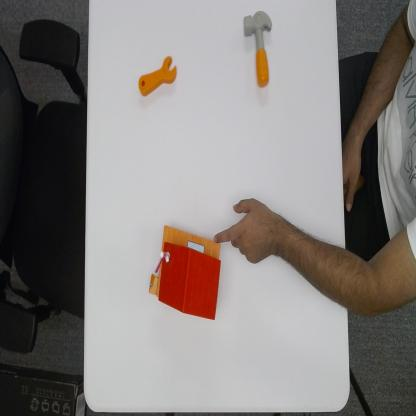Arm: (280, 215, 416, 319)
Hammer: (241, 8, 274, 89)
Hand: (213, 195, 280, 266)
House: (149, 222, 222, 322)
Screwdriver: (138, 53, 178, 100)
